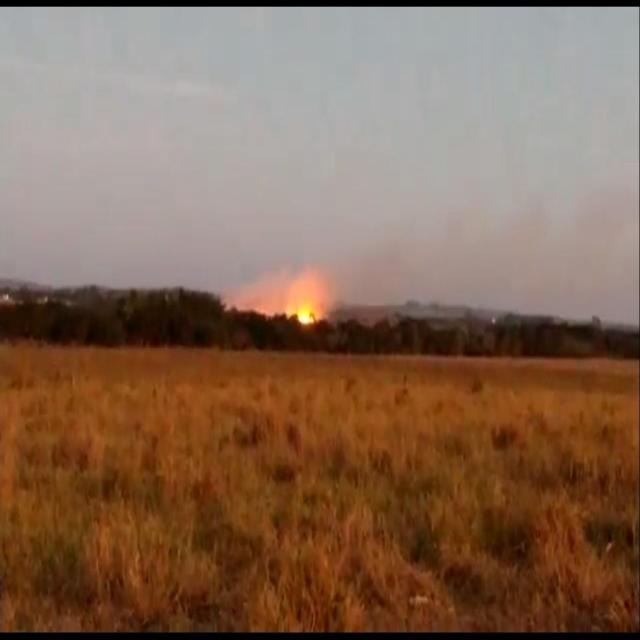Fire: (286, 304, 317, 324)
